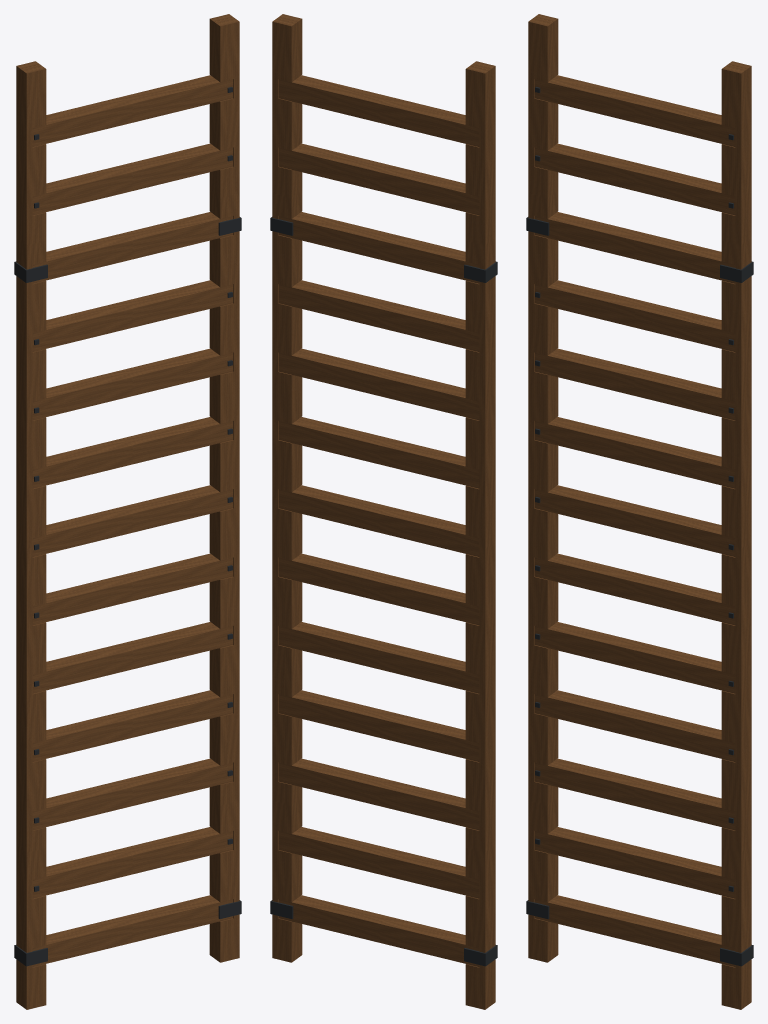
The model's file is crown-ladder.glb.
The picture shows the model from 3 angles, left to right: view 1: azimuth 30°, elevation 25°; view 2: azimuth 150°, elevation 25°; view 3: azimuth 330°, elevation 25°; orthographic projection.
Visible parts, largest first — view 1: Crown ladder - embedded oak planks; view 2: Crown ladder - embedded oak planks; view 3: Crown ladder - embedded oak planks.
Part boxes in pixels (x1=…): Crown ladder - embedded oak planks: x1=14, y1=14, x2=241, y2=1009; Crown ladder - embedded oak planks: x1=270, y1=14, x2=497, y2=1009; Crown ladder - embedded oak planks: x1=526, y1=14, x2=753, y2=1009.
Bounding box in the file's own units: 0.89 × 3.7 × 0.085.
4 materials, 3 textured.
